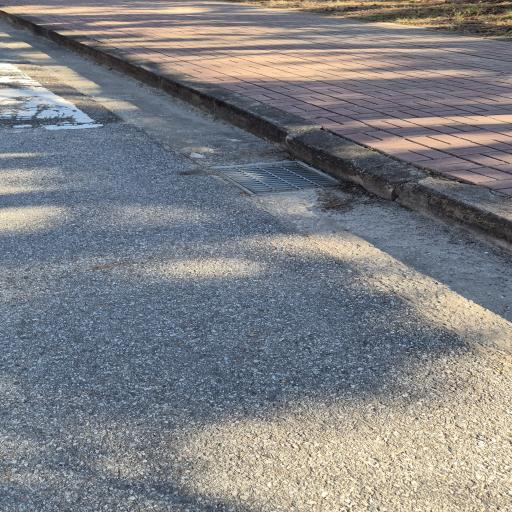drain: (213, 161, 338, 194)
